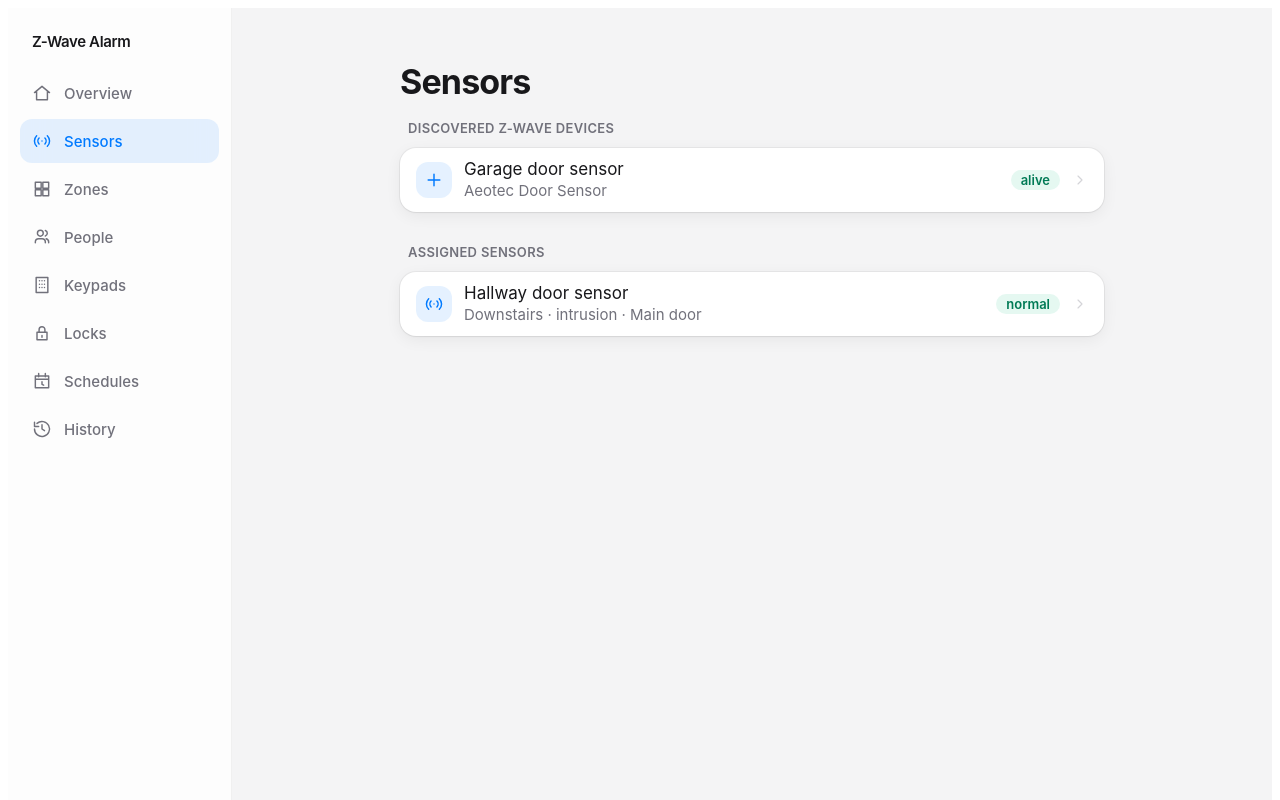
sensors › names sensors after their Home Assistant device, falling back to the stored name
expect the text "Hallway door sensor" is shown: met, box [464,282,628,302]
Click the link "Garage door sensor Aeotec Door Sensor alive". click: (434, 180)
box: [400,148,1104,212]
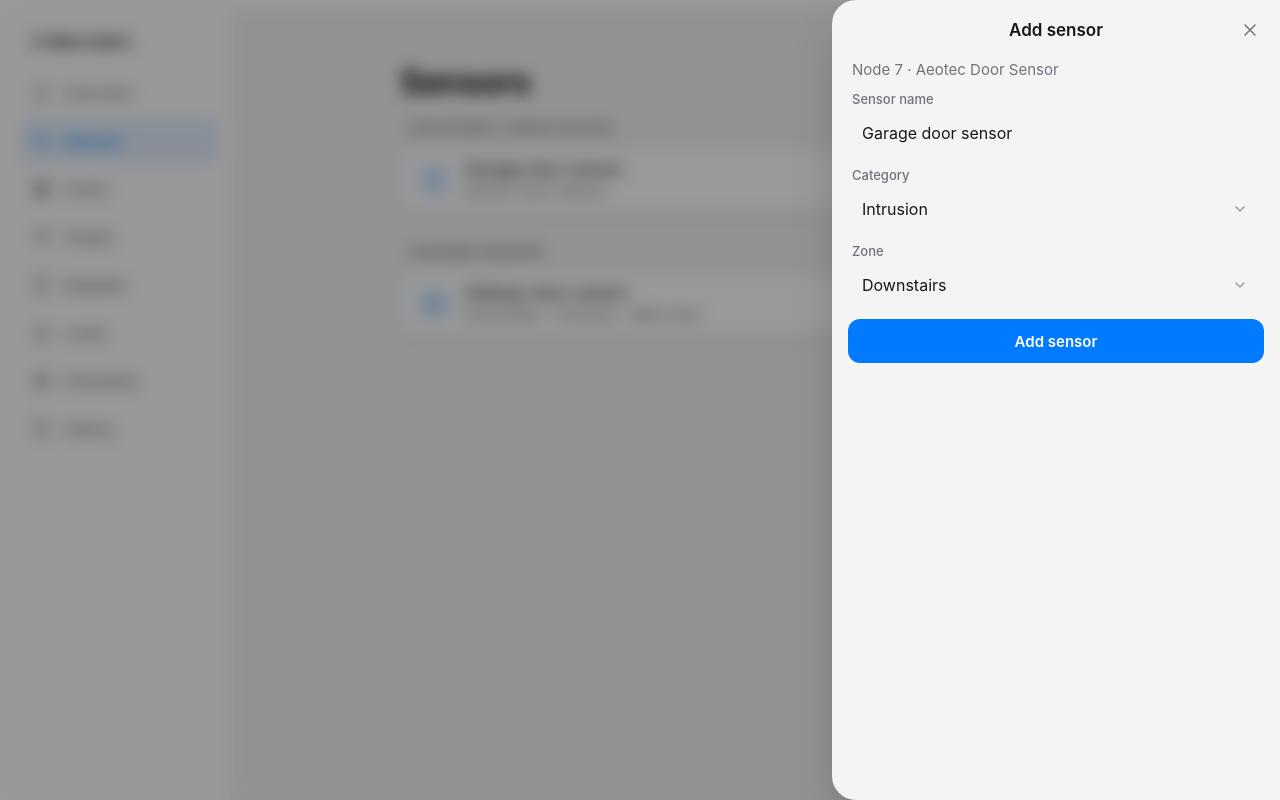
expect the field labelled "Sensor name" holds "Garage door sensor": met, box [848,111,1264,155]
